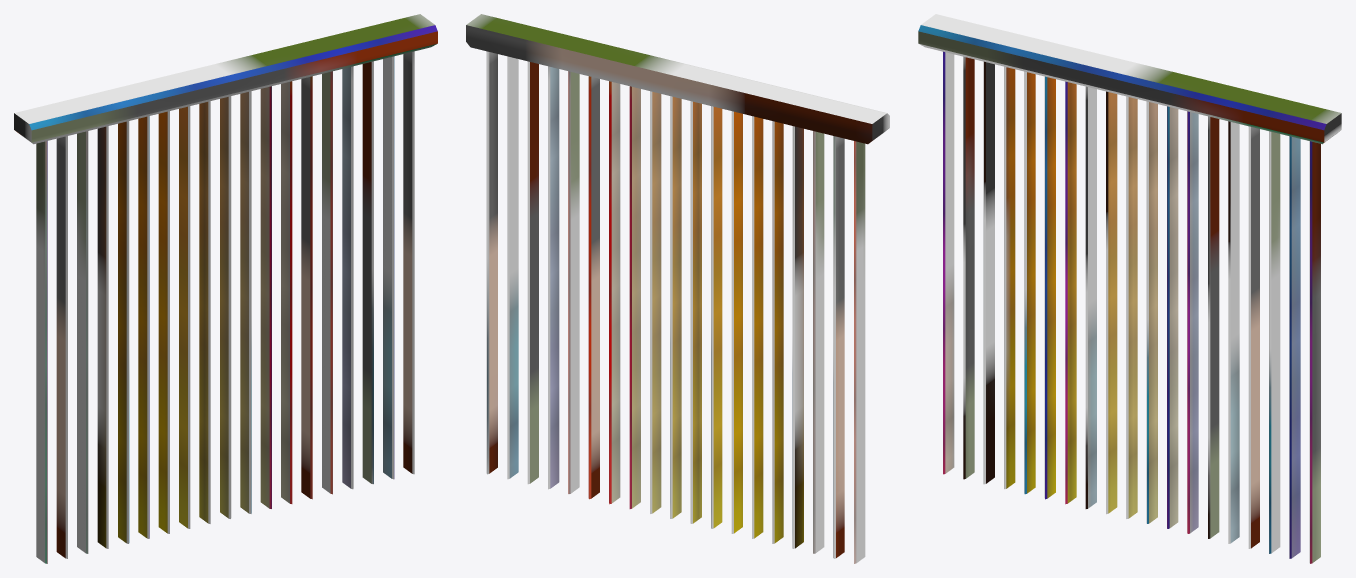
File: Curtain2.glb
3 renders of one model, left to right at view 1: azimuth 30°, elevation 25°; view 2: azimuth 150°, elevation 25°; view 3: azimuth 330°, elevation 25°, orthographic.
Parts seen in each view (by area): view 1: Curtain2; view 2: Curtain2; view 3: Curtain2.
Part boxes in pixels (x1,y1,x2,y2): Curtain2: (14, 14, 437, 563); Curtain2: (466, 14, 889, 563); Curtain2: (918, 14, 1341, 563).
Size of the model in its own units: 2 by 2.1 by 0.1498.
1 material, 1 textured.
